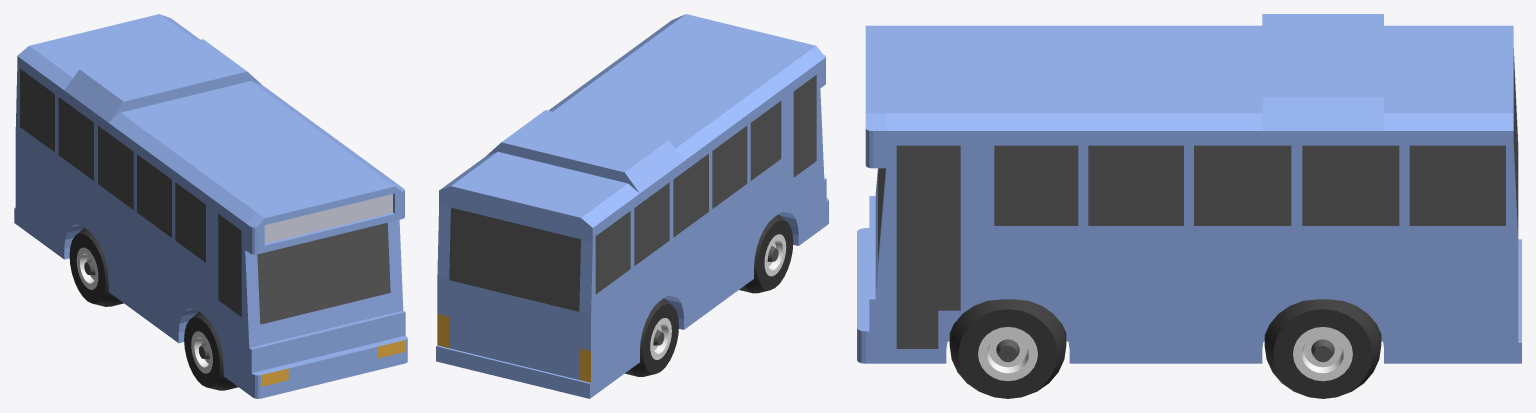
File: Bus.glb
The picture shows the model from 3 angles, left to right: view 1: azimuth 30°, elevation 25°; view 2: azimuth 150°, elevation 25°; view 3: azimuth 270°, elevation 25°; orthographic projection. The views are drawn at different scales.
Visible parts, largest first — view 1: 立方体, wheel_frontRight, wheel_backRight; view 2: 立方体, wheel_frontRight, wheel_backRight; view 3: 立方体, wheel_frontLeft, wheel_backLeft.
Boxes of the visible parts, x1,y1,x2,y2 form: 立方体: (14, 14, 407, 398); wheel_frontRight: (184, 311, 238, 390); wheel_backRight: (69, 228, 123, 306); 立方体: (436, 14, 828, 398); wheel_frontRight: (739, 214, 793, 293); wheel_backRight: (625, 298, 678, 376); 立方体: (857, 14, 1521, 363); wheel_frontLeft: (949, 299, 1066, 398); wheel_backLeft: (1264, 299, 1381, 398).
Size of the model in its own units: 1.26 by 1.7 by 3.42.
